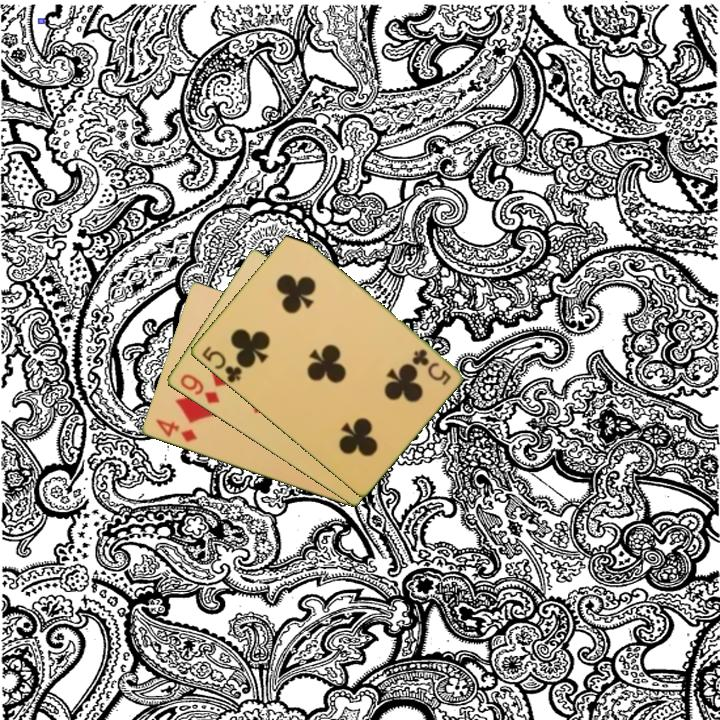4d: (152, 416, 200, 445)
5c: (198, 343, 245, 386), (408, 345, 454, 388)
9d: (176, 370, 222, 407)
